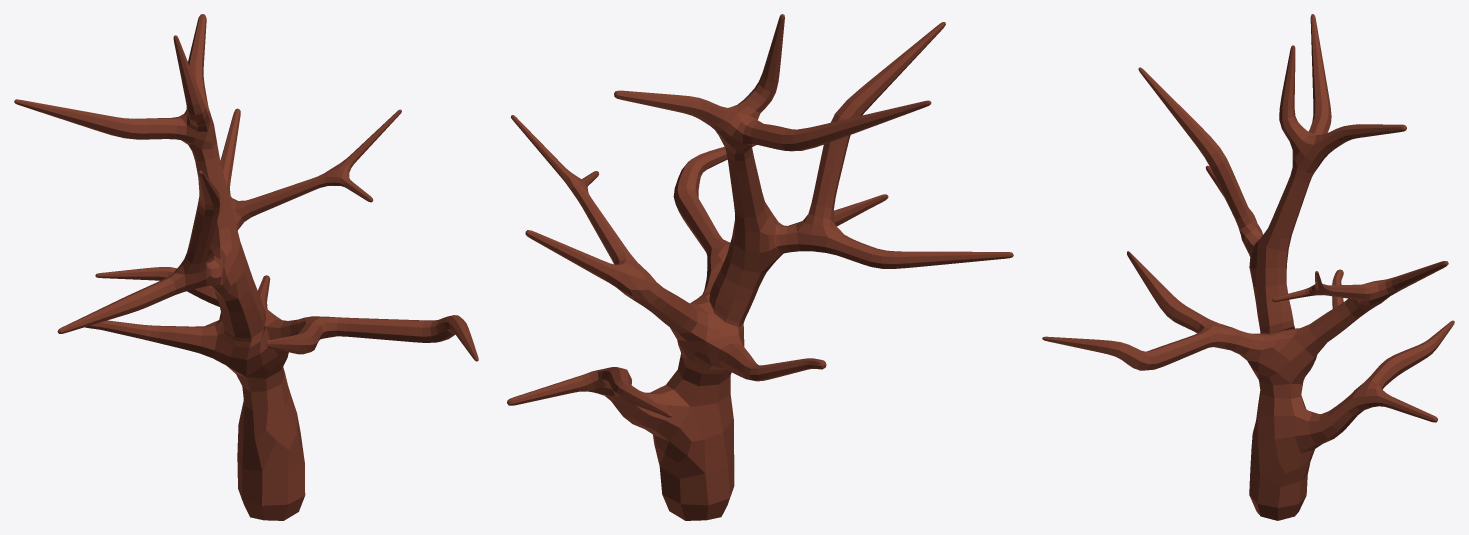
The model's file is Derevo_1.fbx.
3 views of the same model, side by side, from view 1: azimuth 30°, elevation 25°; view 2: azimuth 150°, elevation 25°; view 3: azimuth 270°, elevation 25° (orthographic). The views are drawn at different scales.
Visible parts, largest first — view 1: Плоскость.001; view 2: Плоскость.001; view 3: Плоскость.001.
Boxes of the visible parts, bbox=[...] form: Плоскость.001: bbox=[14, 14, 478, 520]; Плоскость.001: bbox=[507, 14, 1013, 520]; Плоскость.001: bbox=[1042, 14, 1454, 520].
Bounding box in the file's own units: 376 × 441 × 379.
